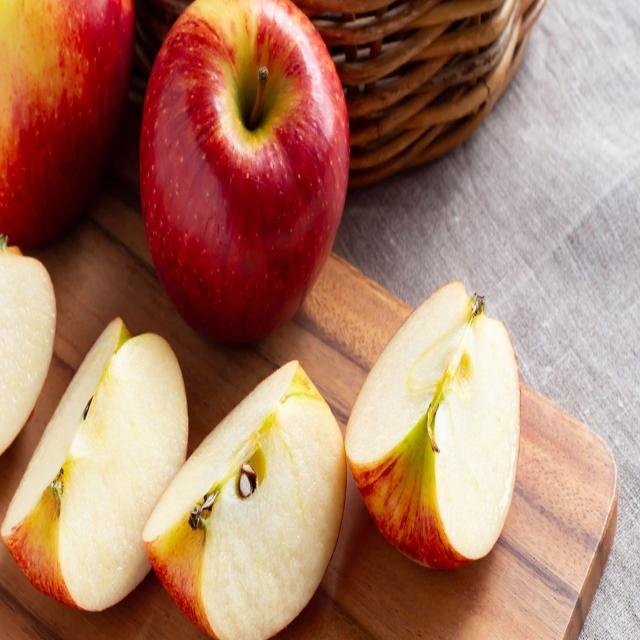manzana: (133, 3, 356, 344), (140, 337, 350, 636), (345, 262, 530, 579)
